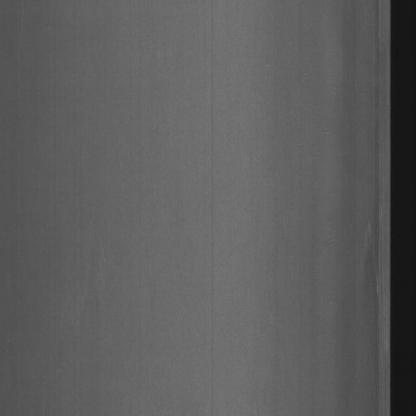silk_spot: (359, 175, 389, 386)
